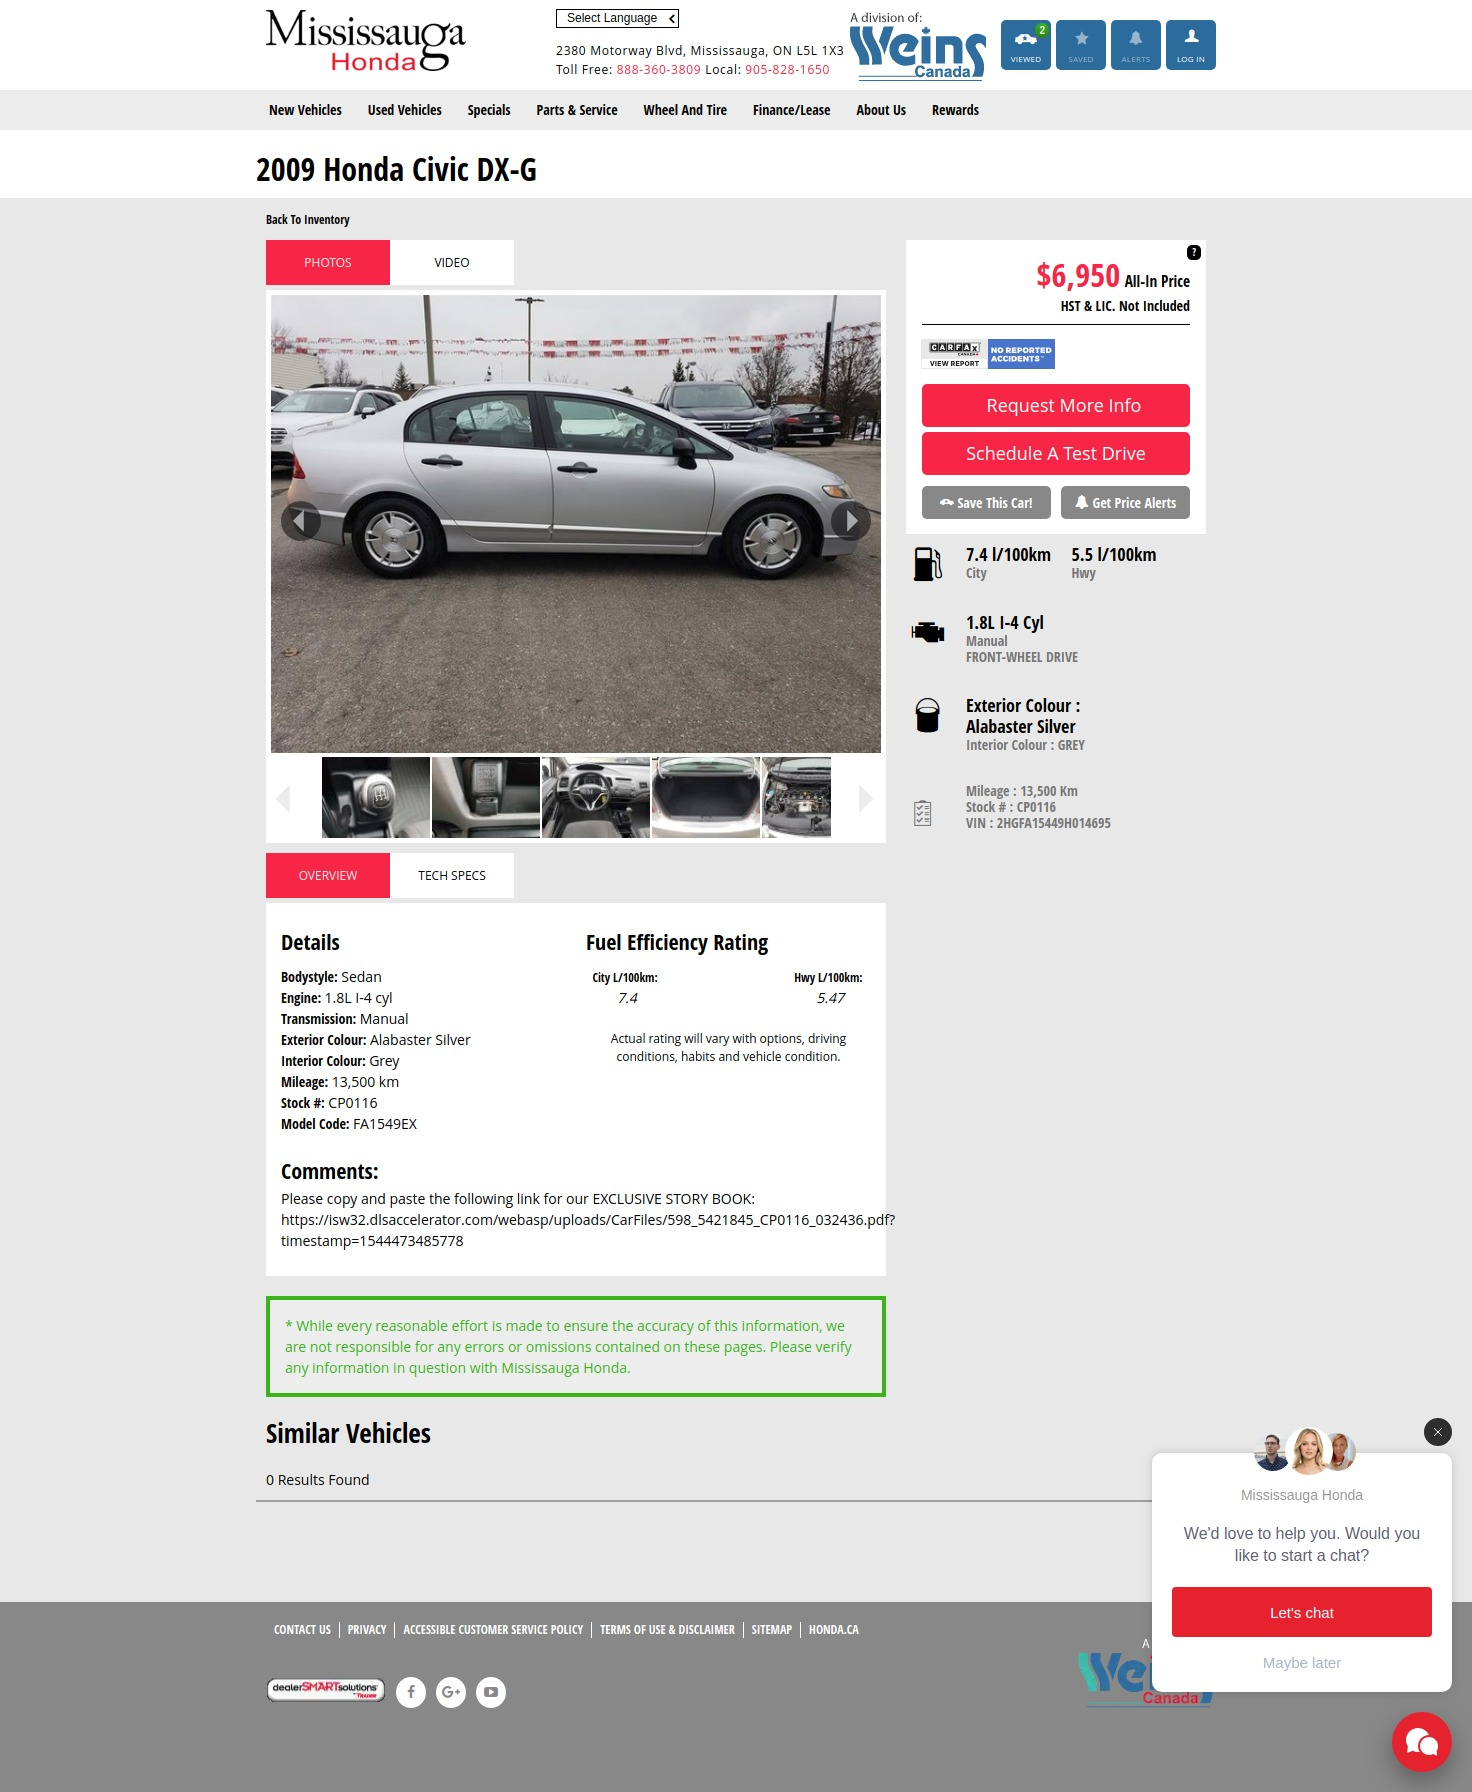car: (857, 784, 874, 813)
